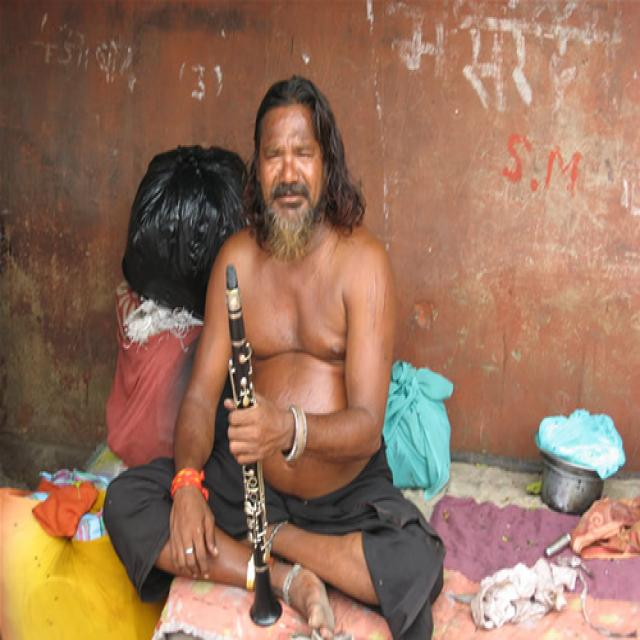clarinet: (213, 262, 287, 631)
